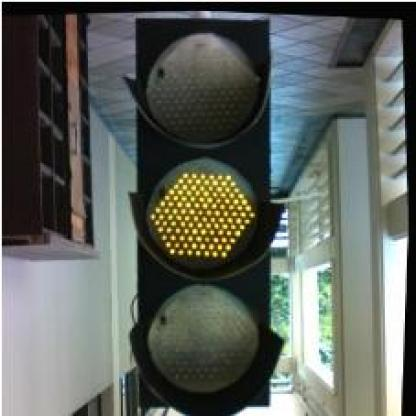yellow: (108, 4, 303, 414)
